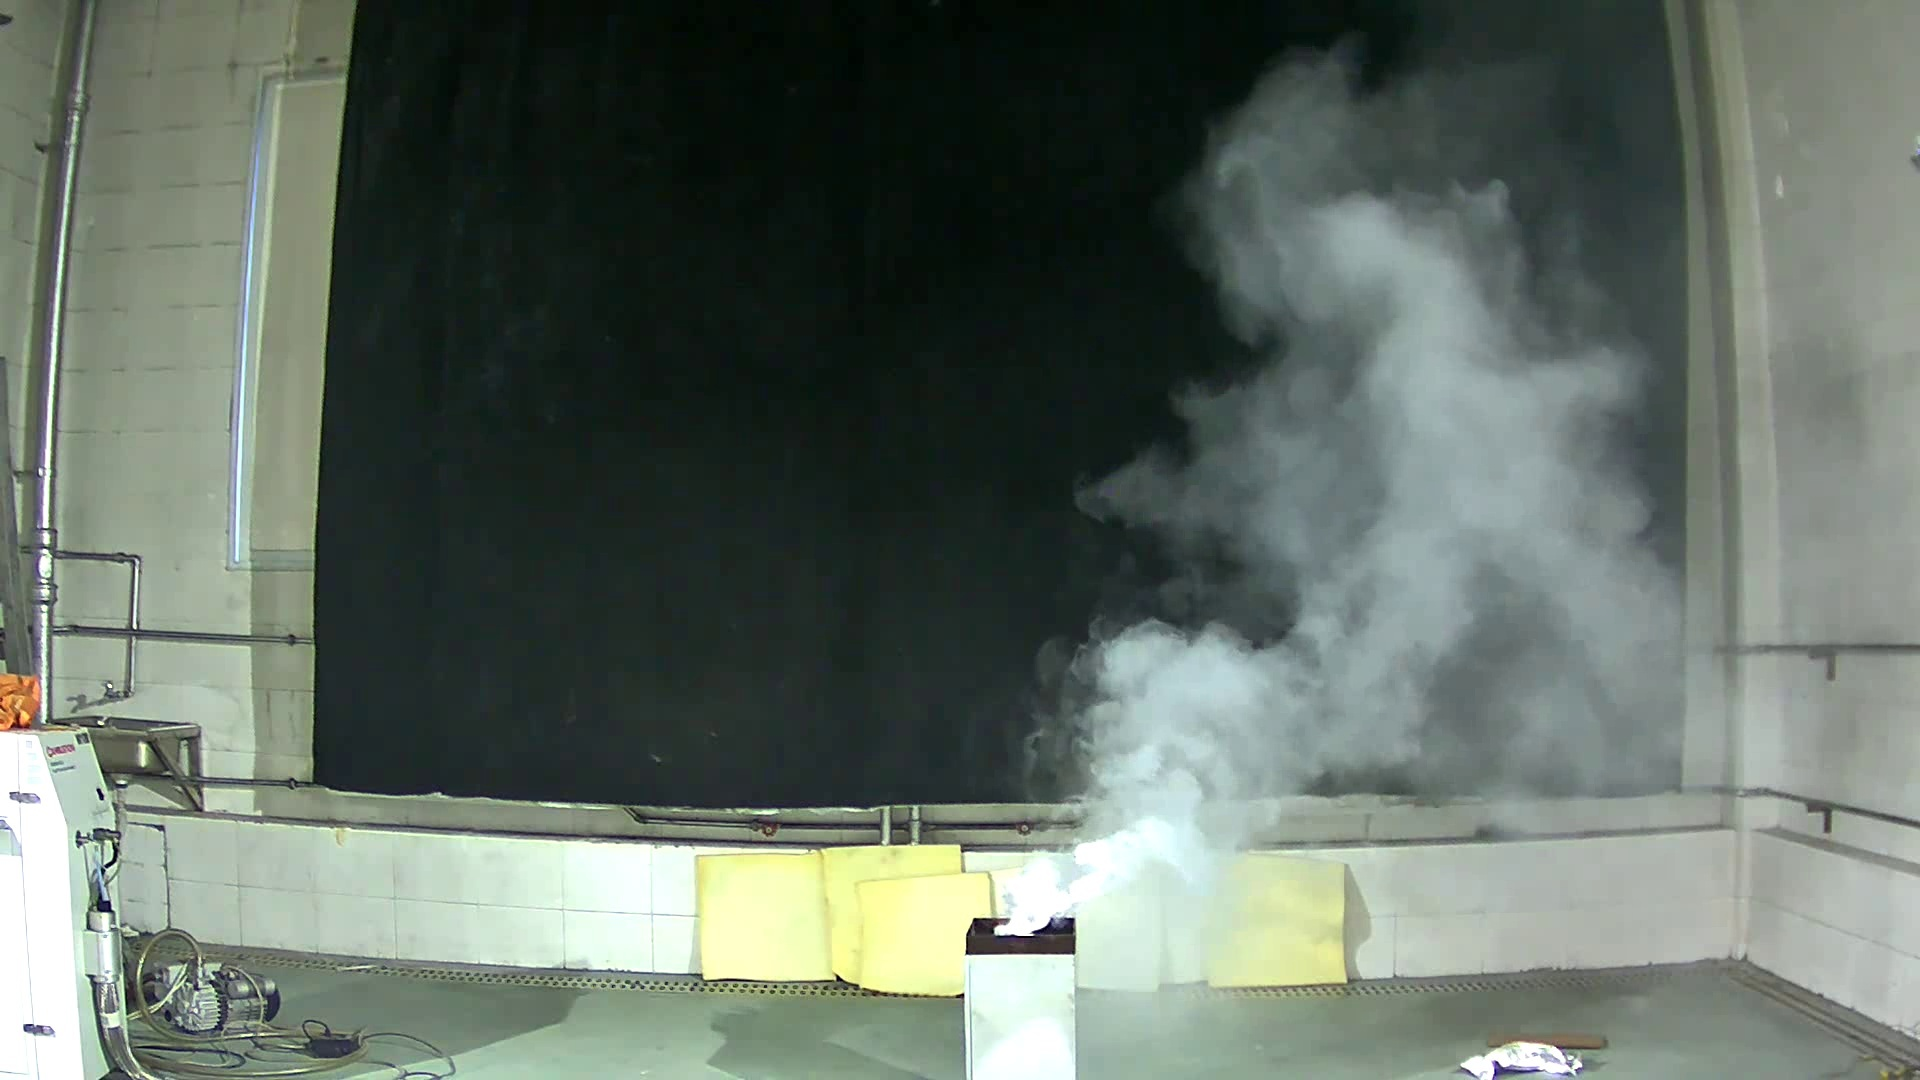smoke: (982, 70, 1640, 911)
